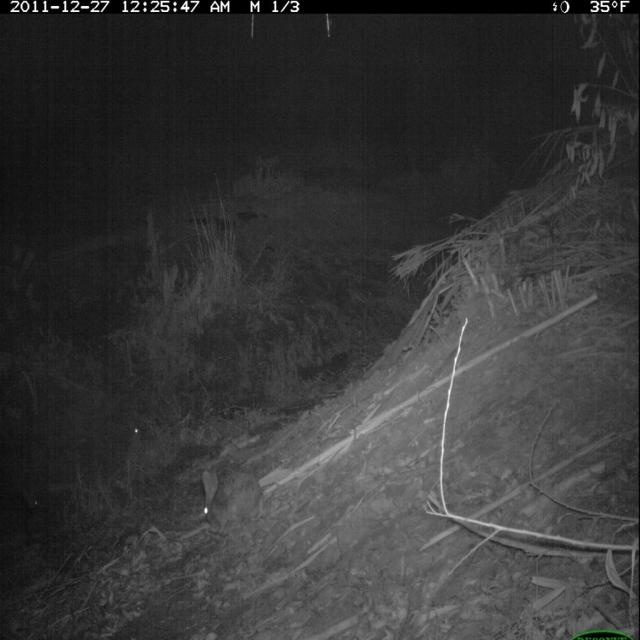rabbit: (195, 465, 269, 539), (15, 479, 52, 553), (123, 416, 147, 463)
